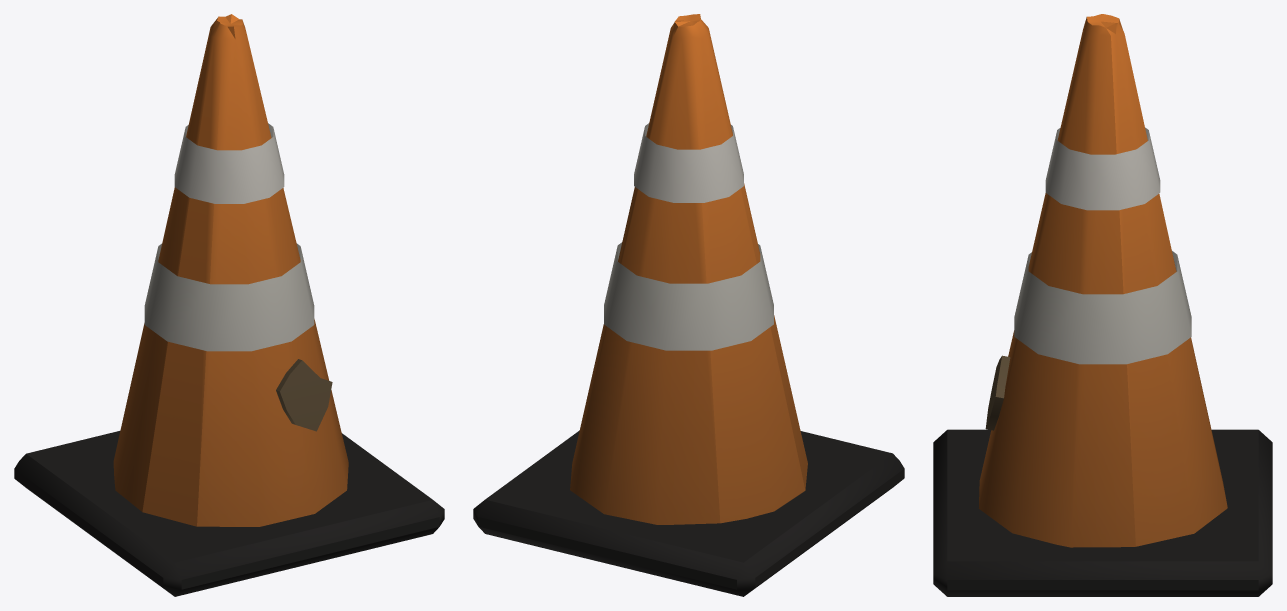
File: 37_cone_chantier.fbx
3 views of the same model, side by side, from view 1: azimuth 30°, elevation 25°; view 2: azimuth 150°, elevation 25°; view 3: azimuth 270°, elevation 25° (orthographic). The views are drawn at different scales.
Visible parts, largest first — view 1: Cone; view 2: Cone; view 3: Cone.
Boxes of the visible parts, x1,y1,x2,y2 form: Cone: (14,14,444,596); Cone: (473,14,904,596); Cone: (933,14,1272,596).
Bounding box in the file's own units: 0.336 × 0.56 × 0.336.
Materials: 1 (1 with a texture image).
